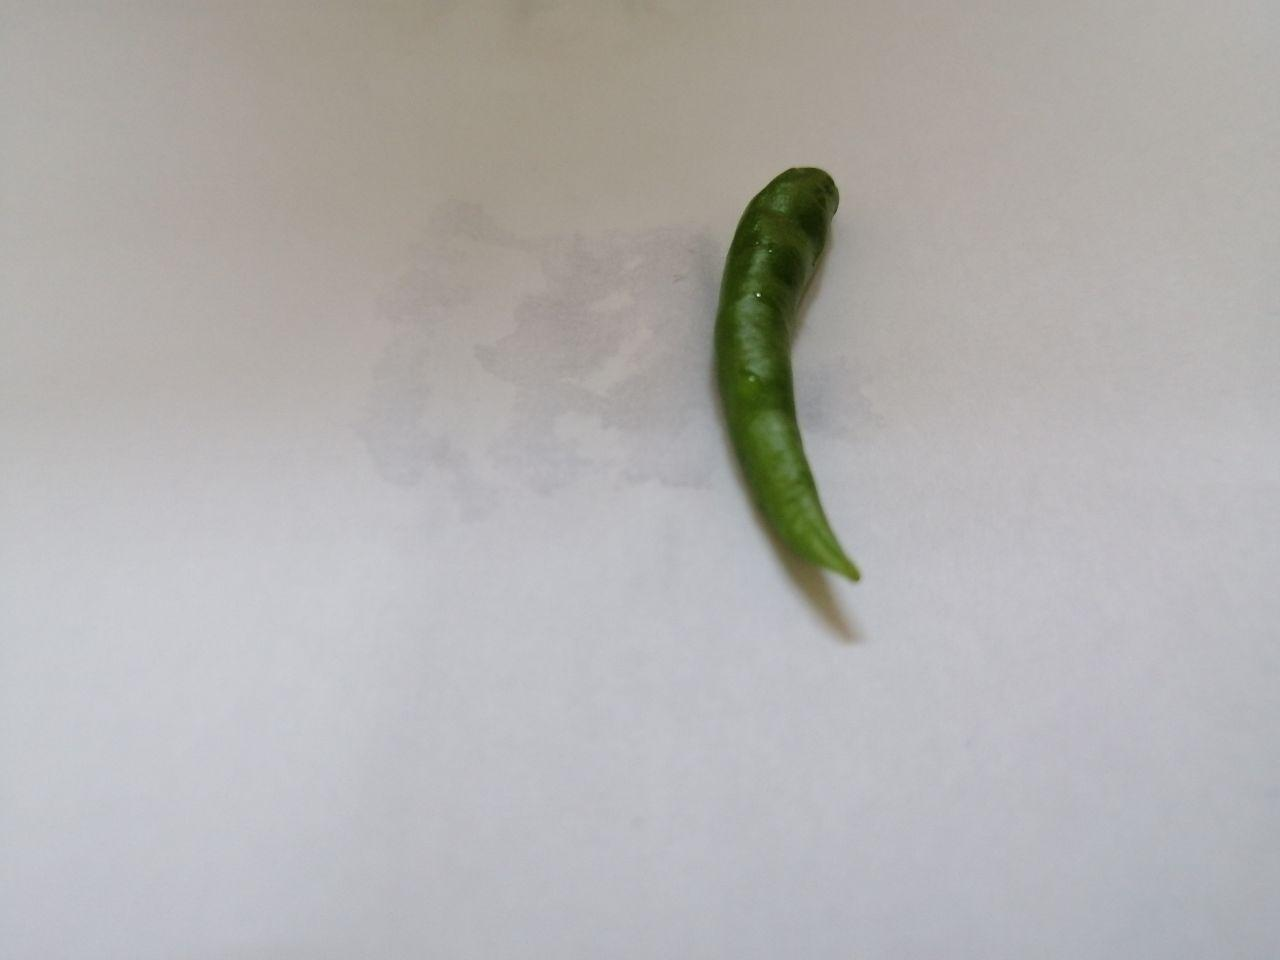lada hijau: (691, 142, 897, 608)
